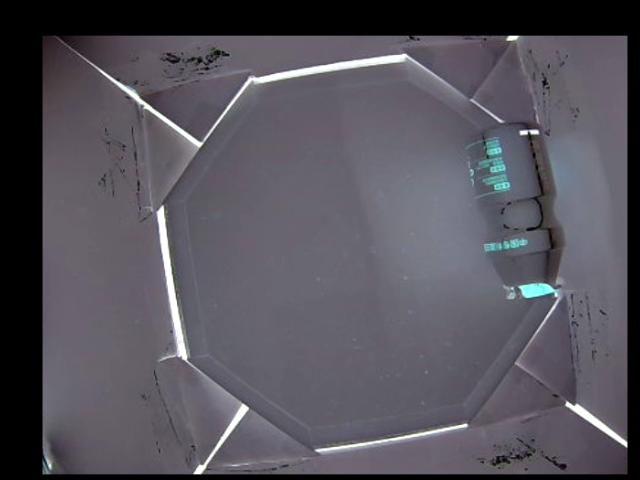Bottle: (462, 121, 564, 297)
